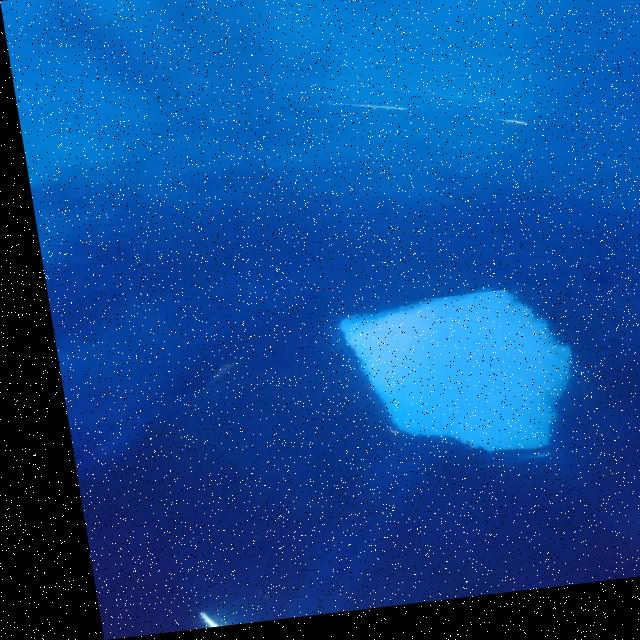thermocoal: (307, 294, 576, 492)
